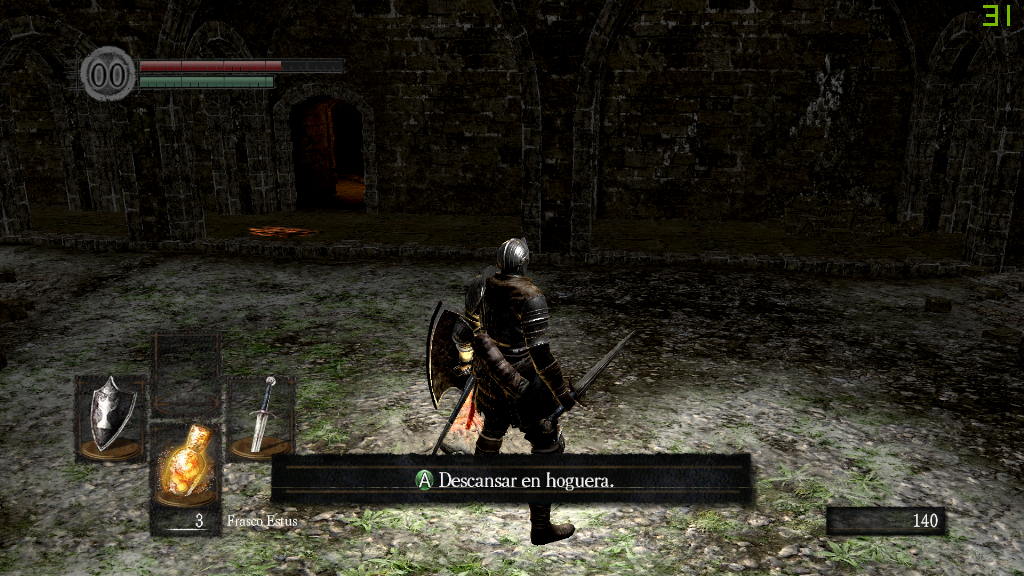dialogBox: (270, 456, 755, 503)
health: (138, 58, 343, 71)
humanity: (80, 45, 136, 102)
player: (425, 236, 639, 546)
souls: (825, 506, 945, 536)
stamina: (138, 74, 274, 88)
